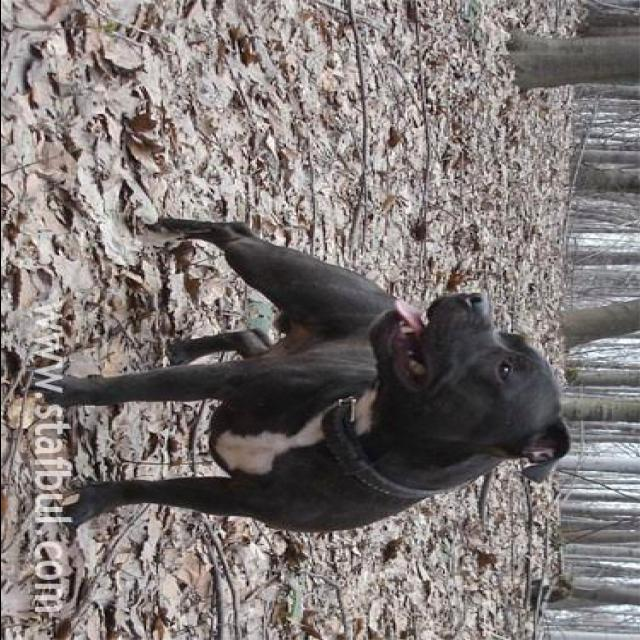staffordshire_bullterrier: (30, 216, 582, 542)
